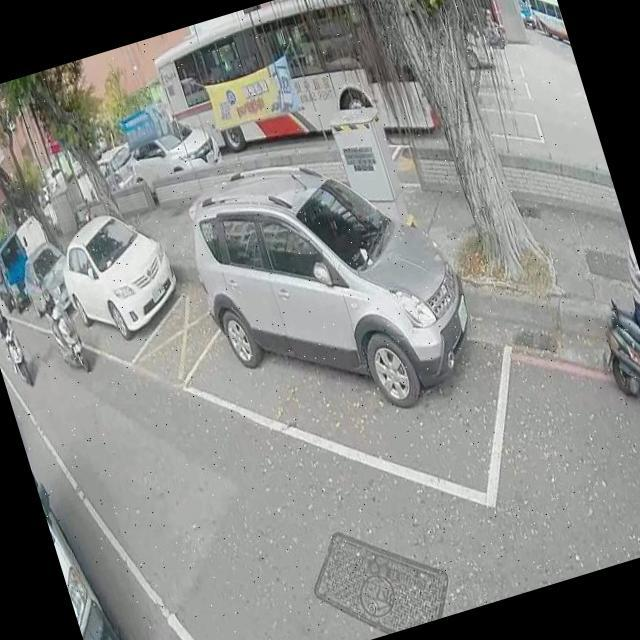person: (599, 216, 640, 446), (36, 276, 70, 343), (0, 299, 27, 373), (485, 6, 503, 41)
